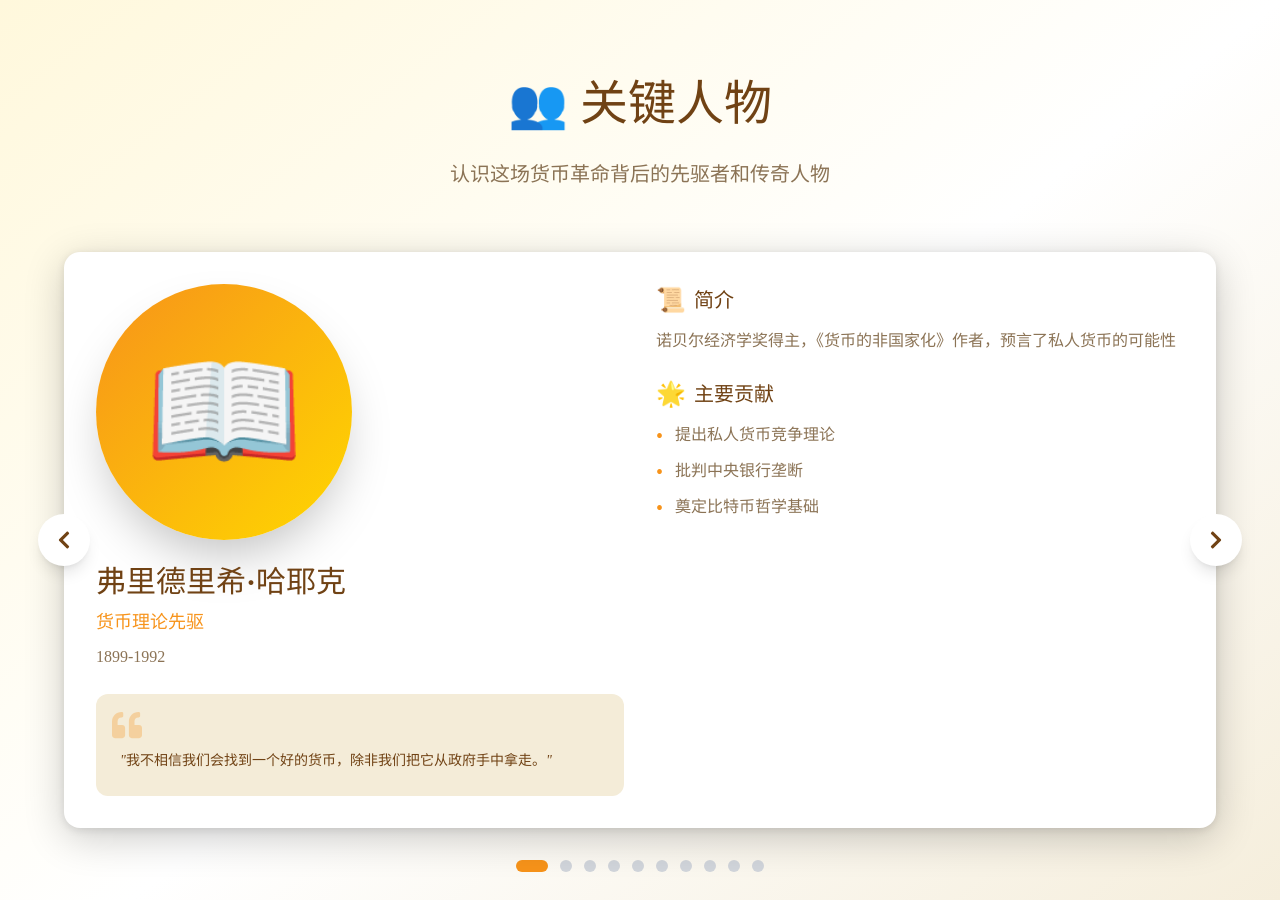
Test: FiguresGallery › navigates backward on left swipe (touch)
The image size is (1280, 900).
Press the mouse on the element that starts with "弗里德里希·哈耶克": (640, 540) [64,252,1216,828]
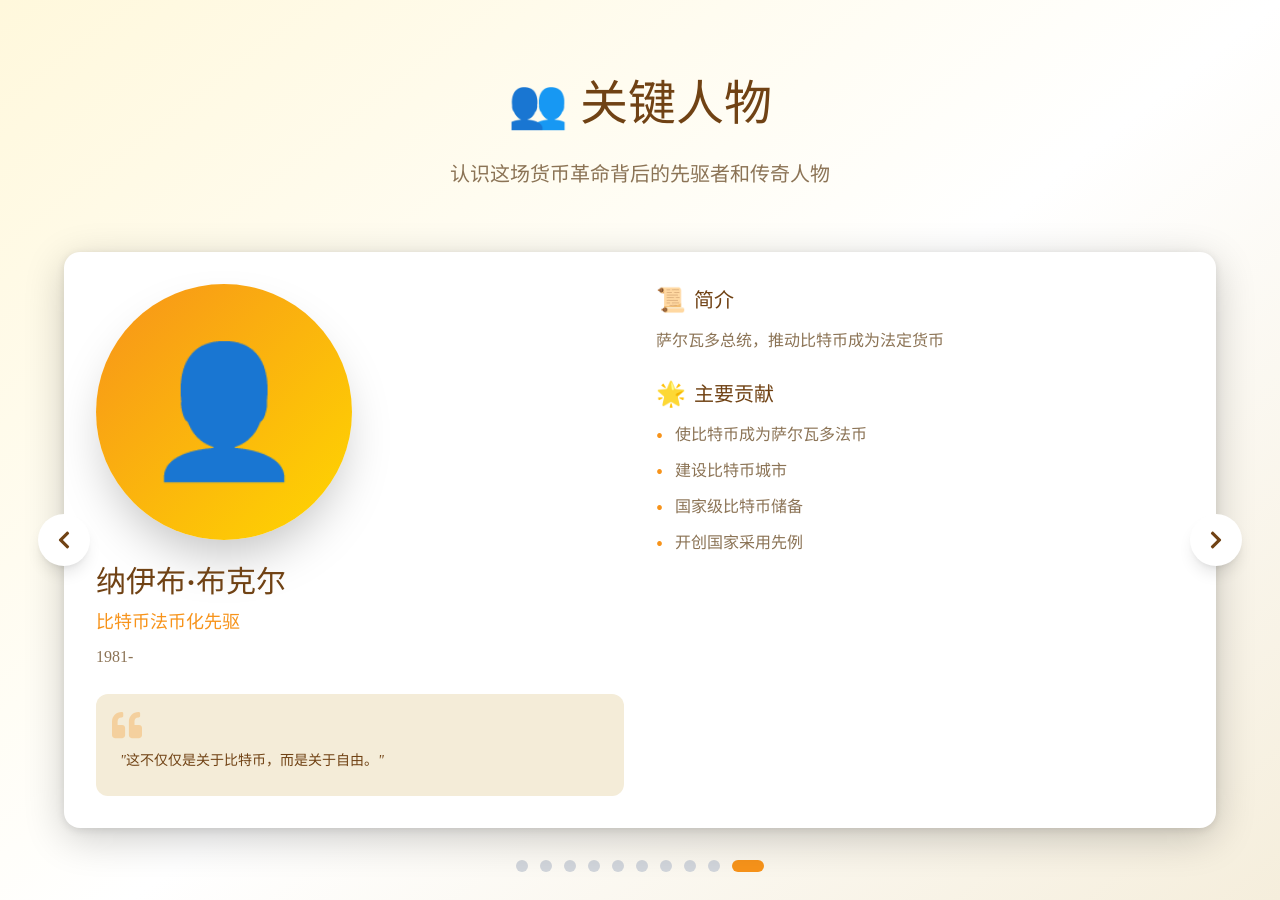
Result: the heading "纳伊布·布克尔" is shown at [96,565,286,598]
